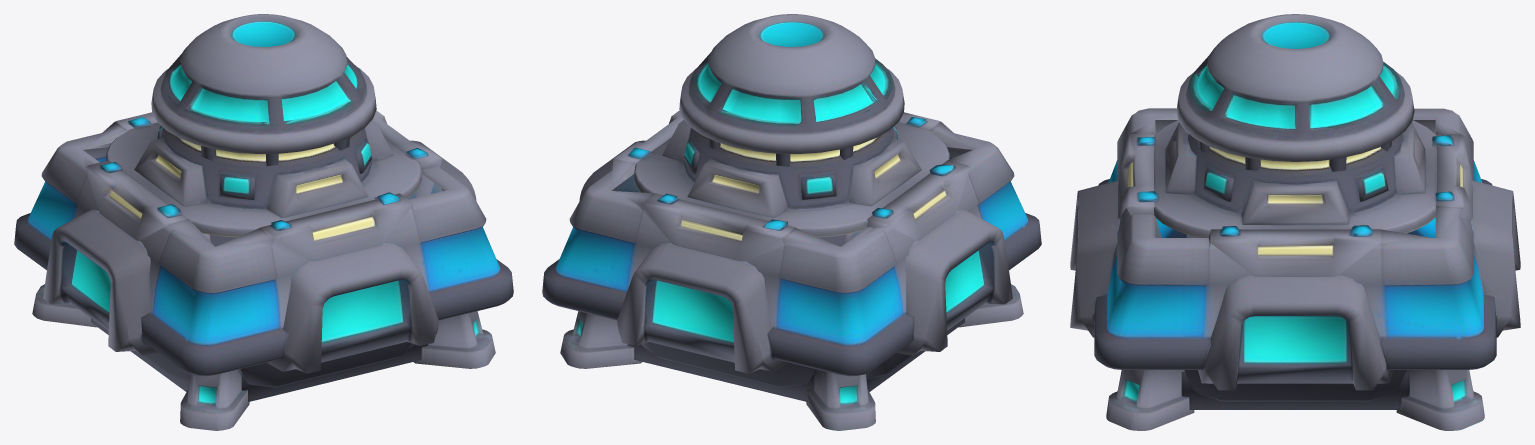
The model's file is command_center.glb.
The picture shows the model from 3 angles, left to right: view 1: azimuth 30°, elevation 25°; view 2: azimuth 150°, elevation 25°; view 3: azimuth 270°, elevation 25°; orthographic projection. The views are drawn at different scales.
Visible parts, largest first — view 1: tripo_node_a37dd3a3-f77f-4753-98cc-830b98e5d725; view 2: tripo_node_a37dd3a3-f77f-4753-98cc-830b98e5d725; view 3: tripo_node_a37dd3a3-f77f-4753-98cc-830b98e5d725.
Part boxes in pixels (box(x1,y1,x2,y2)): tripo_node_a37dd3a3-f77f-4753-98cc-830b98e5d725: box(14, 14, 513, 430); tripo_node_a37dd3a3-f77f-4753-98cc-830b98e5d725: box(542, 14, 1041, 430); tripo_node_a37dd3a3-f77f-4753-98cc-830b98e5d725: box(1070, 14, 1520, 430).
Bounding box in the file's own units: 6.5 × 5.08 × 6.5.
Materials: 1 (1 with a texture image).
